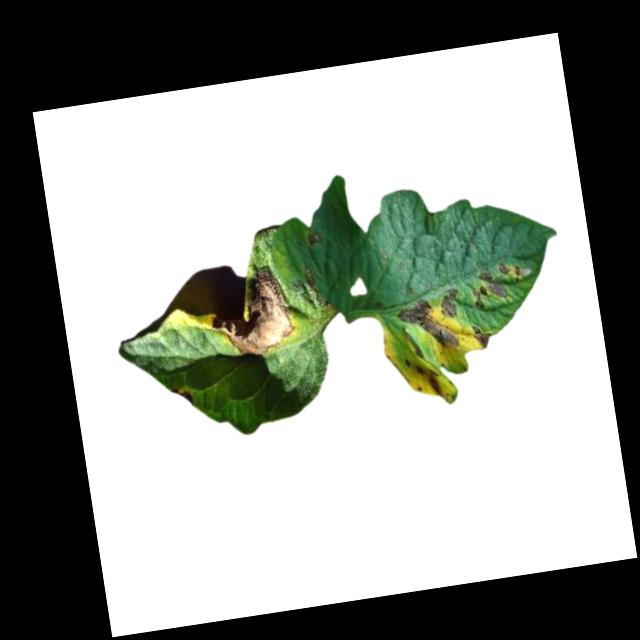Early_blight: (203, 263, 298, 361), (395, 295, 459, 354), (469, 259, 528, 311), (402, 352, 445, 402), (438, 286, 464, 323), (470, 324, 493, 350), (303, 231, 324, 247)
